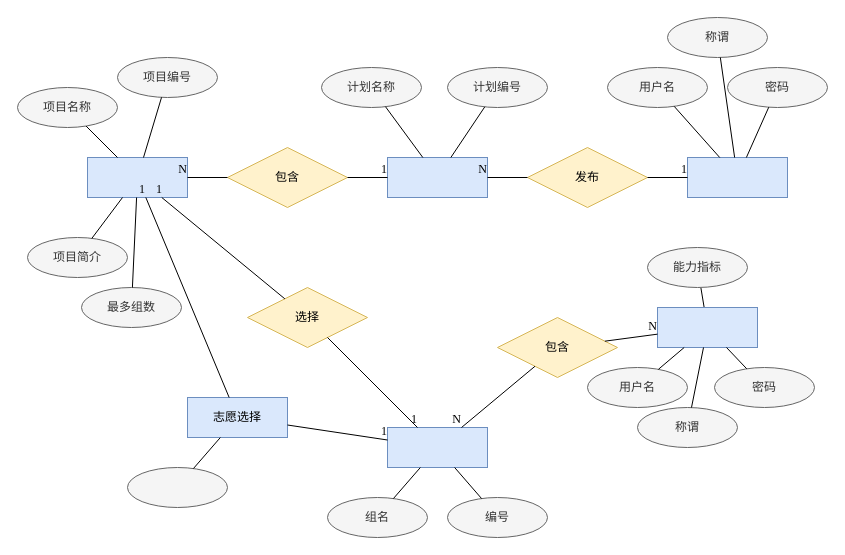
This 845x555 diagram has some shape labels left out. Here are the shapes that lost their labels. From the top down, the box of each, then its label:
(86, 156, 188, 198): 项目
(386, 156, 488, 198): 项目组（课程）
(686, 156, 788, 198): 教授
(656, 306, 758, 348): 学生
(386, 426, 488, 468): 小组
(126, 466, 228, 508): 优先级
